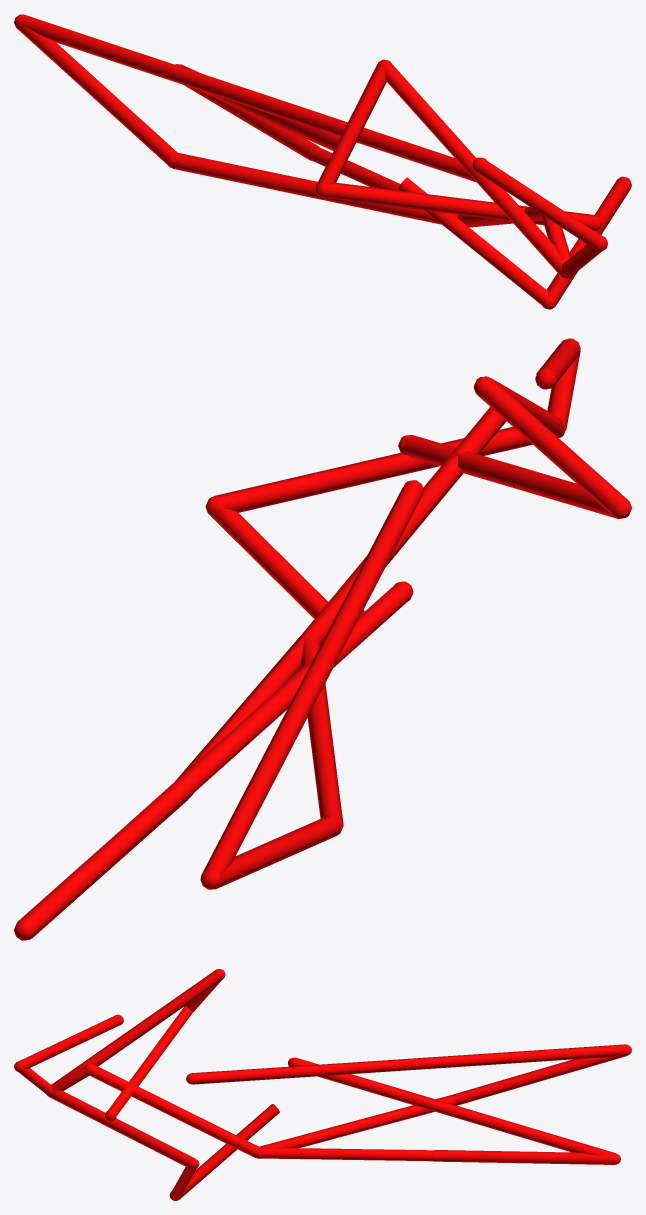
Rendered from stick_2.obj.
3 renders of one model, top to bottom at view 1: azimuth 30°, elevation 25°; view 2: azimuth 150°, elevation 25°; view 3: azimuth 270°, elevation 25°, orthographic. The views are drawn at different scales.
Visible parts, largest first — view 1: grp801, grp1; view 2: grp801, grp1; view 3: grp801, grp1.
Part boxes in pixels (box(x1,y1,x2,y2)): grp801: box(16, 14, 631, 306); grp1: box(14, 14, 631, 309); grp801: box(18, 338, 628, 937); grp1: box(14, 338, 631, 940); grp801: box(18, 969, 627, 1200); grp1: box(14, 969, 631, 1200).
Bounding box in the file's own units: 654 × 510 × 1546.
